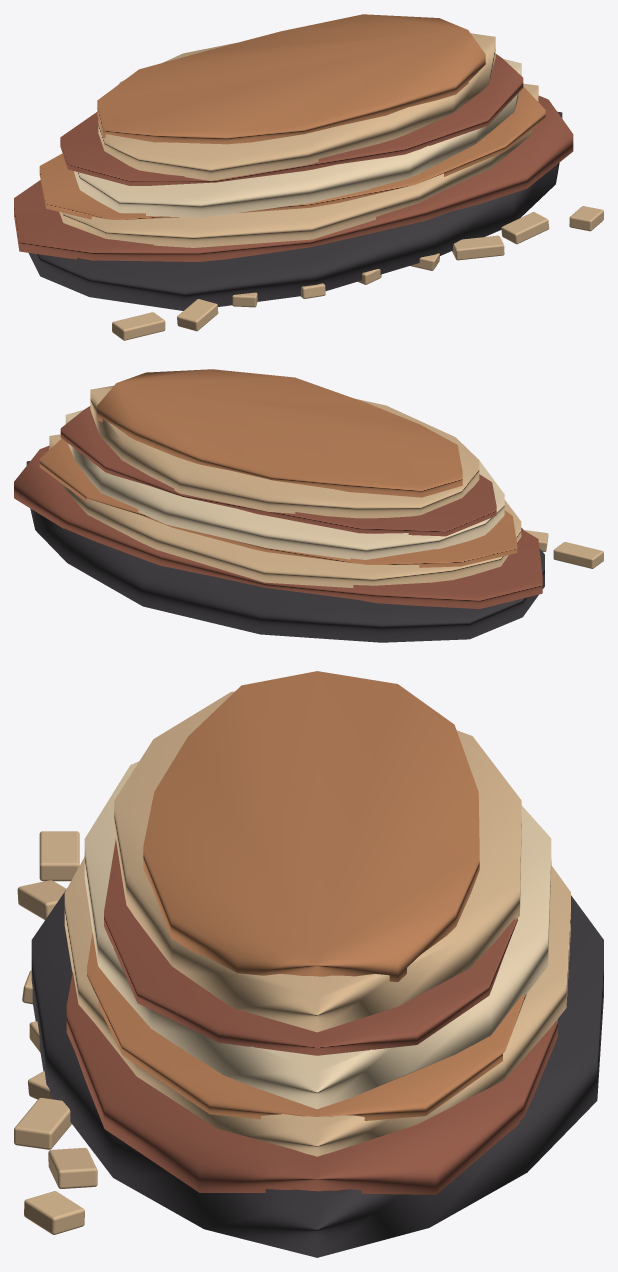
The model's file is kestrel-outcrop.glb.
3 renders of one model, top to bottom at view 1: azimuth 30°, elevation 25°; view 2: azimuth 150°, elevation 25°; view 3: azimuth 270°, elevation 25°, orthographic. The views are drawn at different scales.
Parts seen in each view (by area): view 1: ochre, pale, redrock, basalt, cream; view 2: ochre, pale, redrock, basalt, cream; view 3: ochre, pale, redrock, basalt, cream.
Boxes of the visible parts, bbox=[...] form: ochre: bbox=[39, 14, 545, 219]; pale: bbox=[59, 33, 603, 340]; redrock: bbox=[14, 54, 573, 261]; basalt: bbox=[28, 111, 562, 310]; cream: bbox=[74, 59, 521, 217]; ochre: bbox=[39, 369, 517, 567]; pale: bbox=[49, 385, 603, 587]; redrock: bbox=[14, 406, 542, 608]; basalt: bbox=[26, 461, 544, 642]; cream: bbox=[65, 410, 504, 559]; ochre: bbox=[87, 671, 526, 1120]; pale: bbox=[14, 691, 570, 1234]; redrock: bbox=[66, 839, 557, 1194]; basalt: bbox=[31, 889, 603, 1257]; cream: bbox=[84, 761, 551, 1109].
Size of the model in its own units: 8.17 by 2.12 by 4.7.
